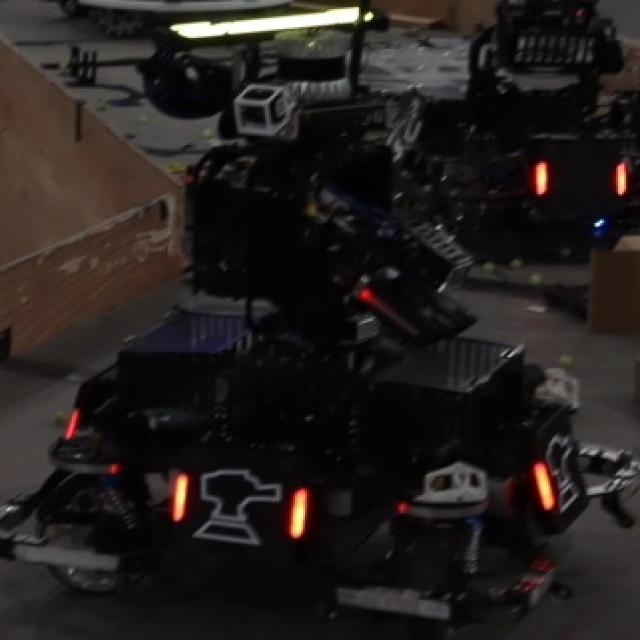Rs: (166, 462, 311, 548), (532, 421, 586, 516)
